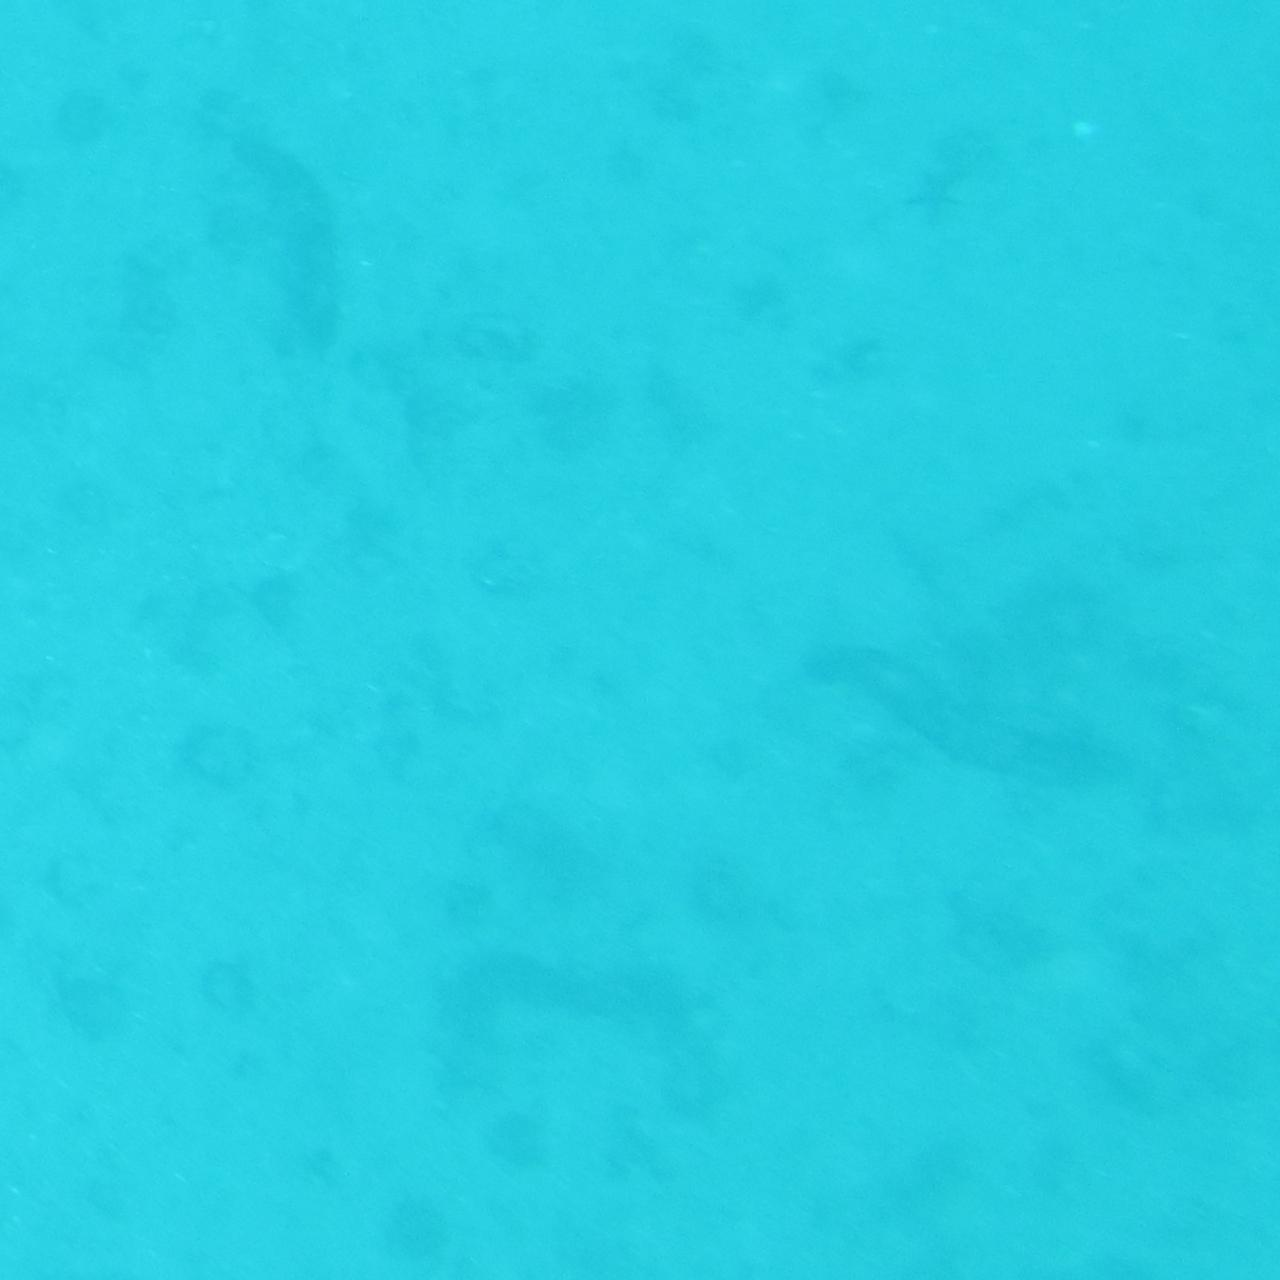Holothuria tubulosa: (810, 633, 1150, 817), (443, 940, 750, 1103), (231, 139, 368, 381)
